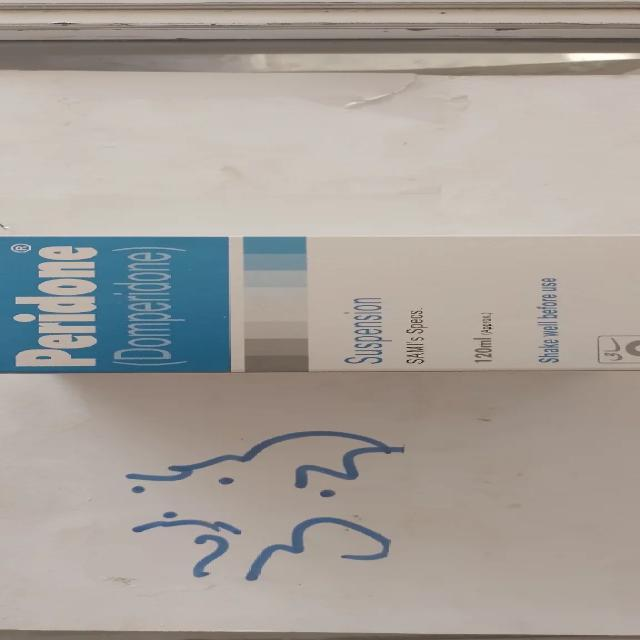drug-name: (8, 242, 100, 371)
